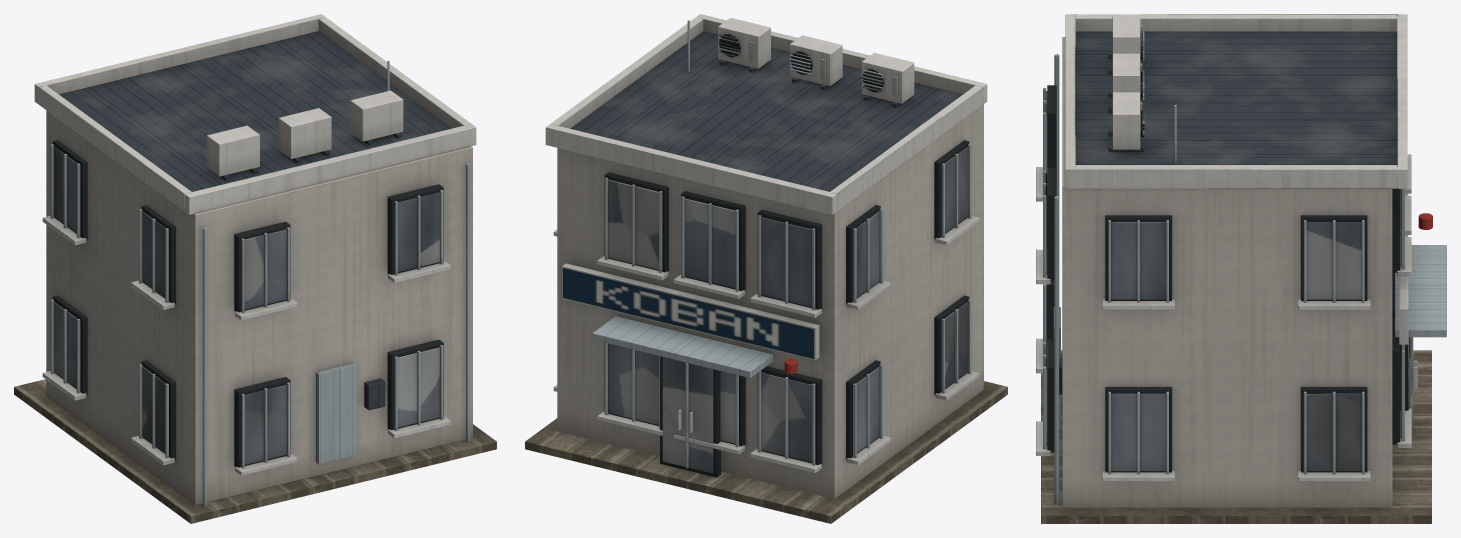
Rendered from public_006.obj.
The picture shows the model from 3 angles, left to right: view 1: azimuth 30°, elevation 25°; view 2: azimuth 150°, elevation 25°; view 3: azimuth 270°, elevation 25°; orthographic projection. The views are drawn at different scales.
Parts seen in each view (by area): view 1: public_006; view 2: public_006; view 3: public_006.
Part boxes in pixels (<box>): public_006: <box>14,14,496,523</box>; public_006: <box>525,14,1007,523</box>; public_006: <box>1036,14,1446,523</box>.
Size of the model in its own units: 6.4 by 7.1 by 6.72.
1 material, 1 textured.
